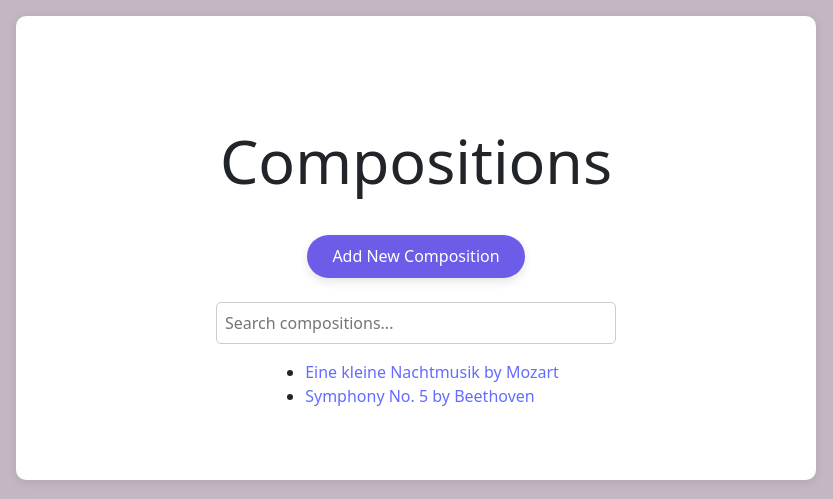
Test: CompositionList › filters compositions based on search term
Type "symphony" into the field with placeholder "Search compositions..." at (416,323), box [216,302,616,344]
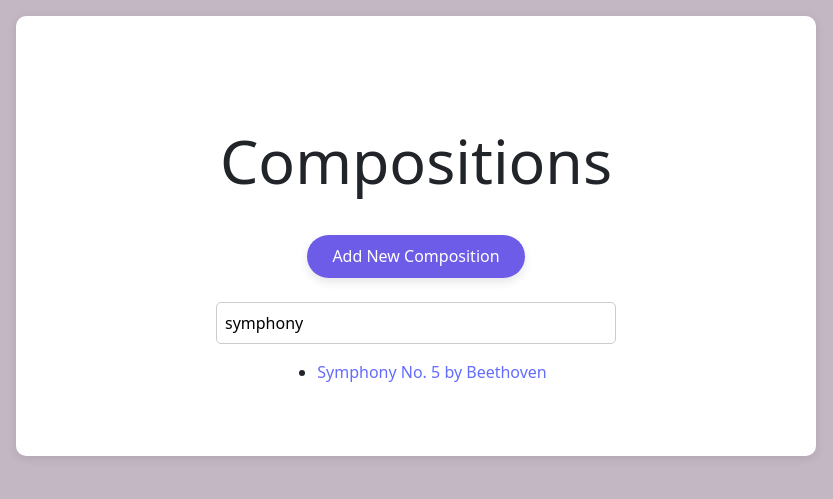
Check: the link "Symphony No. 5 by Beethoven" is shown, box [317,361,547,383]
Check: the link "Eine kleine Nachtmusik by Mozart" is gone
